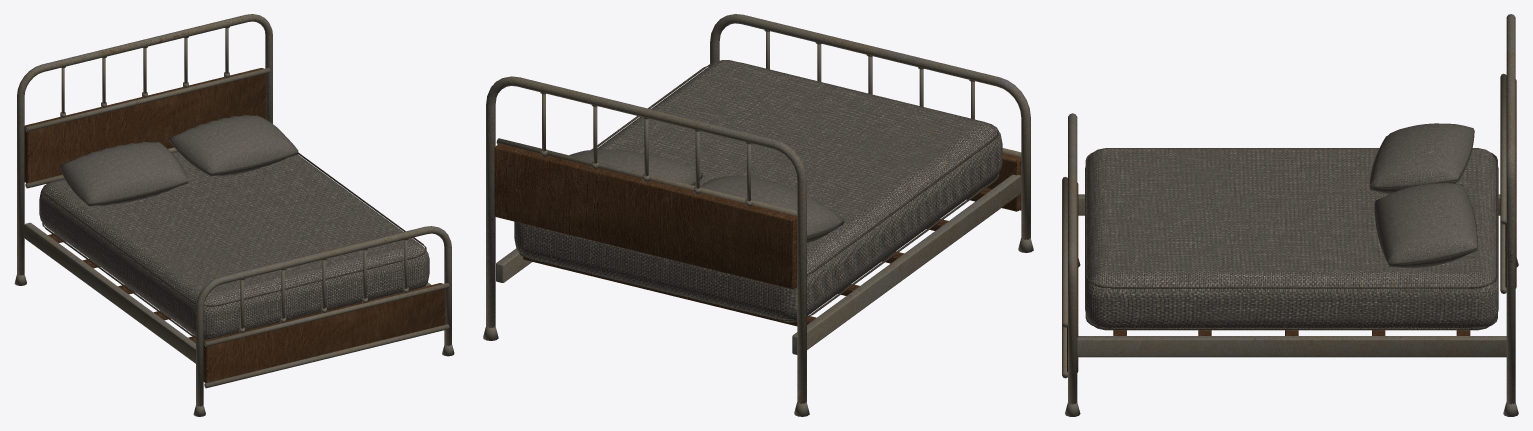
Rendered from Victorian_Bed.fbx.
3 renders of one model, left to right at view 1: azimuth 30°, elevation 25°; view 2: azimuth 150°, elevation 25°; view 3: azimuth 270°, elevation 25°, orthographic. The views are drawn at different scales.
Parts seen in each view (by area): view 1: Mattress | rounded upholstered body, Head | oak panel, Foot | oak panel, Pillow L, Pillow R, Head | continuous bent iron, Foot | continuous bent iron, Side rail, Head | panel border.001, Foot | panel border.001, Foot | panel border, Mattress | bound edge.001 (+1 smaller); view 2: Mattress | rounded upholstered body, Head | oak panel, Head | continuous bent iron, Side rail, Foot | continuous bent iron, Pillow L, Pillow R, Head | panel border.001, Mattress | bound edge, Mattress | bound edge.001, Foot | oak panel, Side rail.001 (+1 smaller); view 3: Mattress | rounded upholstered body, Side rail.001, Pillow R, Pillow L, Head | continuous bent iron, Foot | continuous bent iron, Mattress | bound edge.001, Head | panel border.001, Foot | panel border.001, Mattress | bound edge, Head | oak panel, Head | panel border.
Boxes of the visible parts, box(x1,y1,x2,y2) form: Mattress | rounded upholstered body: box(39, 151, 429, 340); Head | oak panel: box(24, 68, 266, 183); Foot | oak panel: box(203, 283, 445, 382); Pillow L: box(60, 142, 188, 206); Pillow R: box(169, 115, 298, 176); Head | continuous bent iron: box(17, 14, 272, 275); Foot | continuous bent iron: box(196, 226, 451, 406); Side rail: box(24, 222, 195, 363); Head | panel border.001: box(25, 67, 270, 131); Foot | panel border.001: box(204, 283, 449, 346); Foot | panel border: box(204, 324, 449, 388); Mattress | bound edge.001: box(42, 151, 426, 306); Mattress | rounded upholstered body: box(514, 60, 1002, 322); Head | oak panel: box(494, 144, 797, 289); Head | continuous bent iron: box(486, 76, 806, 403); Side rail: box(792, 174, 1020, 354); Foot | continuous bent iron: box(710, 14, 1030, 239); Pillow L: box(699, 175, 844, 242); Pillow R: box(569, 149, 702, 185); Head | panel border.001: box(496, 138, 797, 215); Mattress | bound edge: box(519, 174, 998, 320); Mattress | bound edge.001: box(591, 62, 998, 275); Foot | oak panel: box(967, 153, 1021, 211); Side rail.001: box(496, 248, 531, 282); Mattress | rounded upholstered body: box(1085, 148, 1498, 330); Side rail.001: box(1077, 336, 1506, 357); Pillow R: box(1375, 183, 1477, 268); Pillow L: box(1370, 123, 1473, 194); Head | continuous bent iron: box(1506, 14, 1515, 404); Foot | continuous bent iron: box(1068, 113, 1077, 404); Mattress | bound edge.001: box(1085, 152, 1497, 288); Head | panel border.001: box(1500, 73, 1506, 224); Foot | panel border.001: box(1062, 177, 1067, 327); Mattress | bound edge: box(1085, 313, 1497, 329); Head | oak panel: box(1505, 79, 1516, 288); Head | panel border: box(1500, 222, 1506, 293).
Size of the model in its own units: 1.77 by 1.39 by 2.21.
5 materials, 5 textured.
